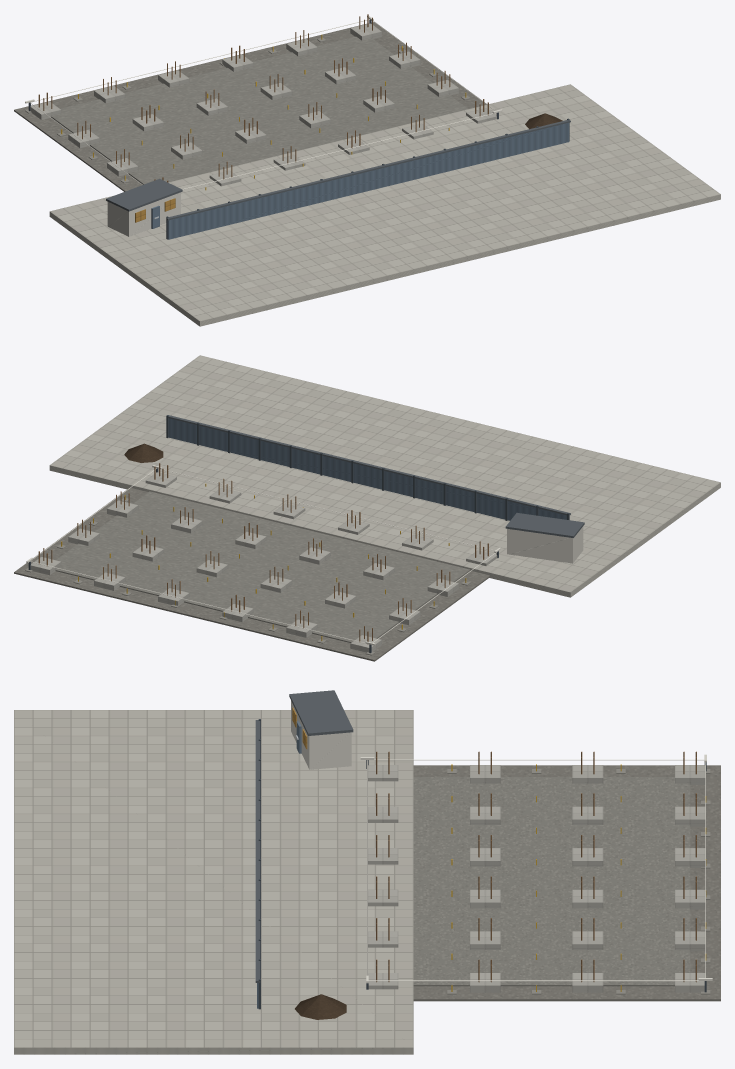
Rendered from el-6-site.glb.
3 views of the same model, one above another, from view 1: azimuth 30°, elevation 25°; view 2: azimuth 150°, elevation 25°; view 3: azimuth 270°, elevation 25° (orthographic). The views are drawn at different scales.
Size of the model in its own units: 52 by 3.16 by 46.
Materials: 18 (10 with a texture image).
